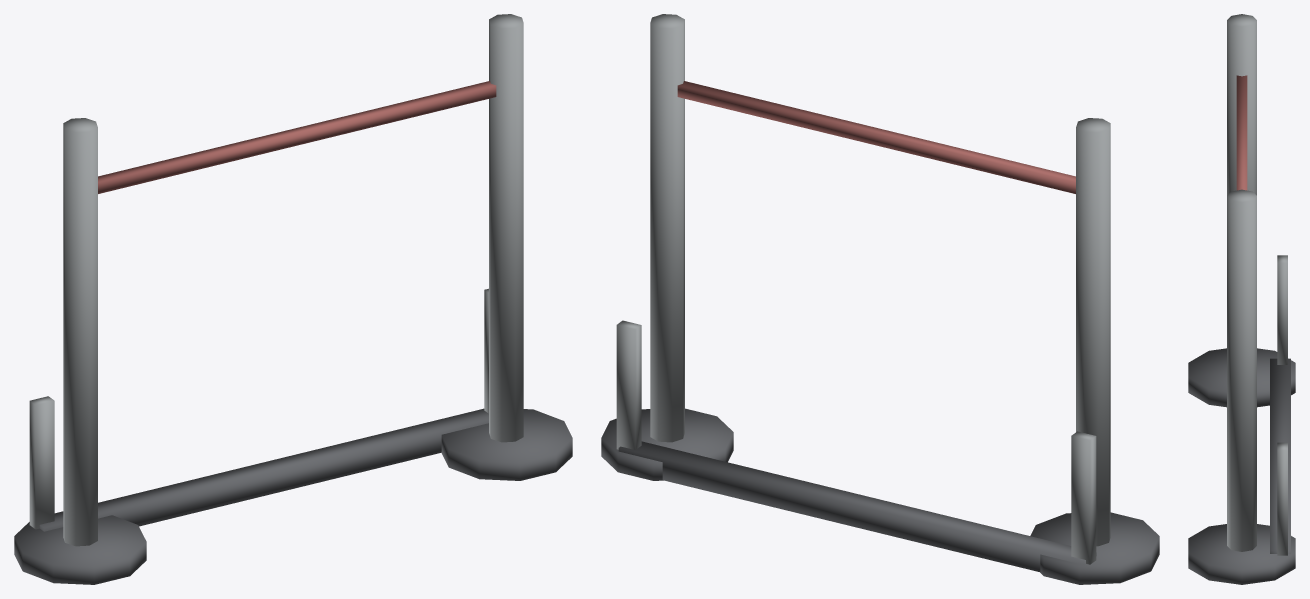
The model's file is museum_rope_barrier__reinforced.glb.
3 renders of one model, left to right at view 1: azimuth 30°, elevation 25°; view 2: azimuth 150°, elevation 25°; view 3: azimuth 270°, elevation 25°, orthographic. The views are drawn at different scales.
Parts seen in each view (by area): view 1: world; view 2: world; view 3: world.
Part boxes in pixels (bbox=[...]): world: bbox=[14, 14, 572, 584]; world: bbox=[601, 14, 1159, 584]; world: bbox=[1188, 14, 1295, 584].
Size of the model in its own units: 1.26 by 0.9588 by 0.2547.
